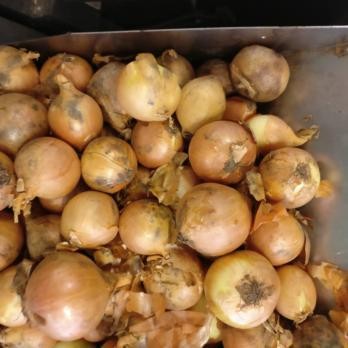Onion: (0, 41, 291, 348), (285, 147, 348, 347)
